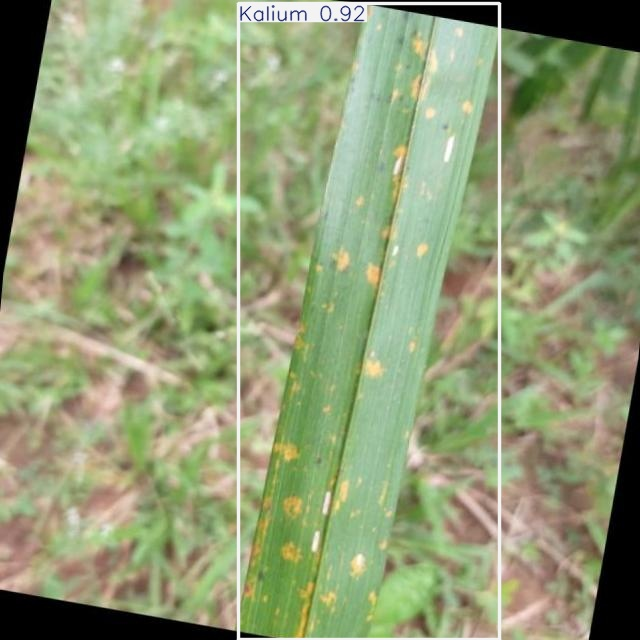Kalium: (239, 4, 500, 640)
